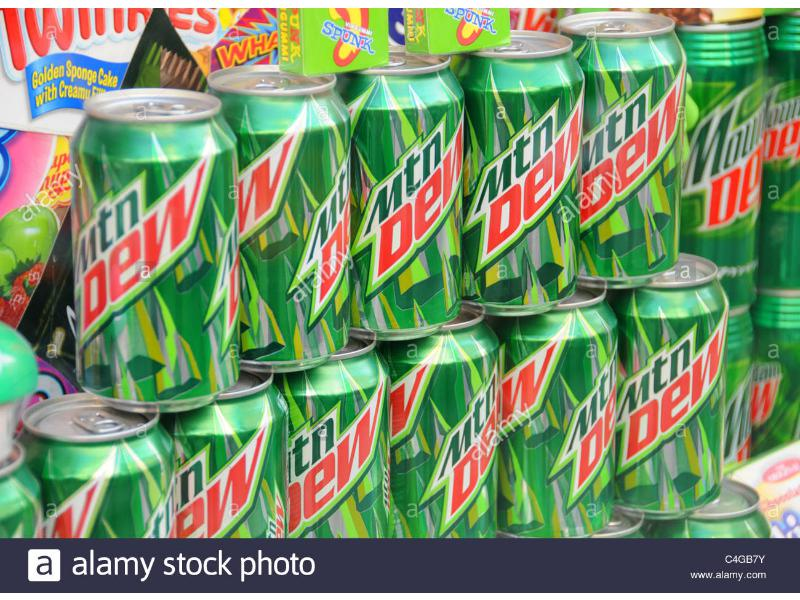can: (65, 80, 243, 410), (230, 46, 357, 372), (559, 6, 695, 279), (461, 23, 580, 314), (355, 41, 467, 338), (620, 254, 735, 523), (502, 306, 616, 529), (16, 391, 176, 543), (677, 14, 774, 264), (388, 322, 497, 534), (283, 344, 382, 534), (175, 393, 269, 536)
